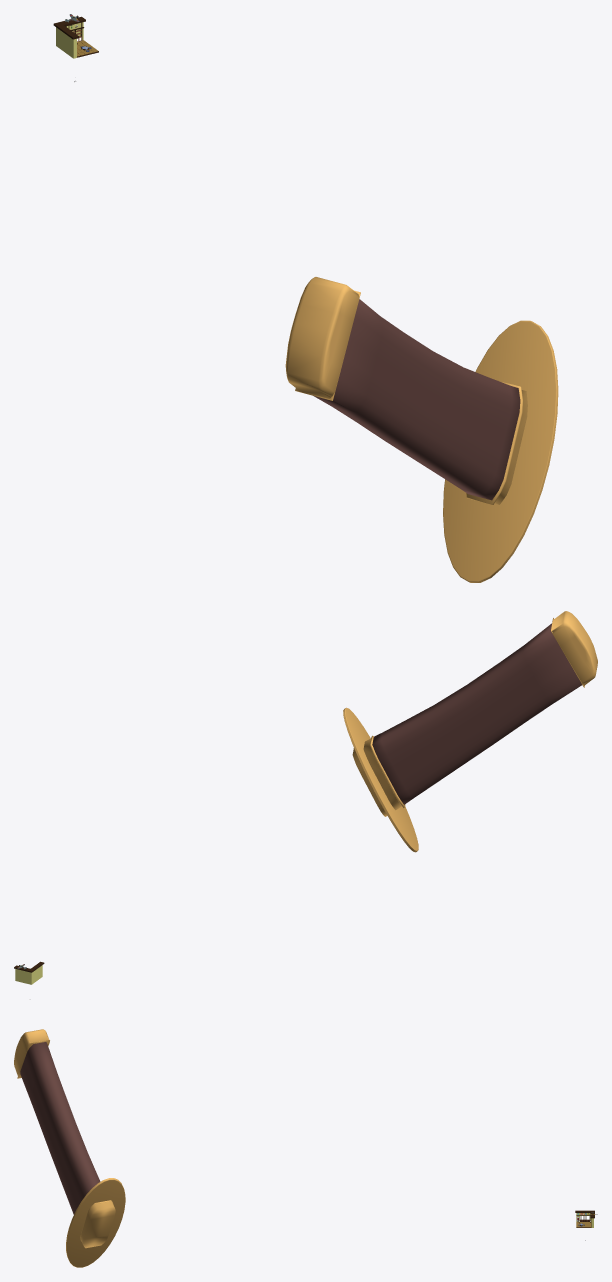
The model's file is casita.gltf.
3 renders of one model, top to bottom at view 1: azimuth 30°, elevation 25°; view 2: azimuth 150°, elevation 25°; view 3: azimuth 270°, elevation 25°, orthographic. The views are drawn at different scales.
Parts seen in each view (by area): view 1: Cube.003, Room_1; view 2: Cube.003; view 3: Cube.003.
Boxes of the visible parts, box(x1,y1,x2,y2) form: Cube.003: box(285, 277, 558, 582); Room_1: box(53, 16, 85, 58); Cube.003: box(343, 611, 597, 852); Cube.003: box(14, 1029, 125, 1267).
Size of the model in its own units: 77.41 by 79.21 by 219.
Materials: 68 (11 with a texture image).
